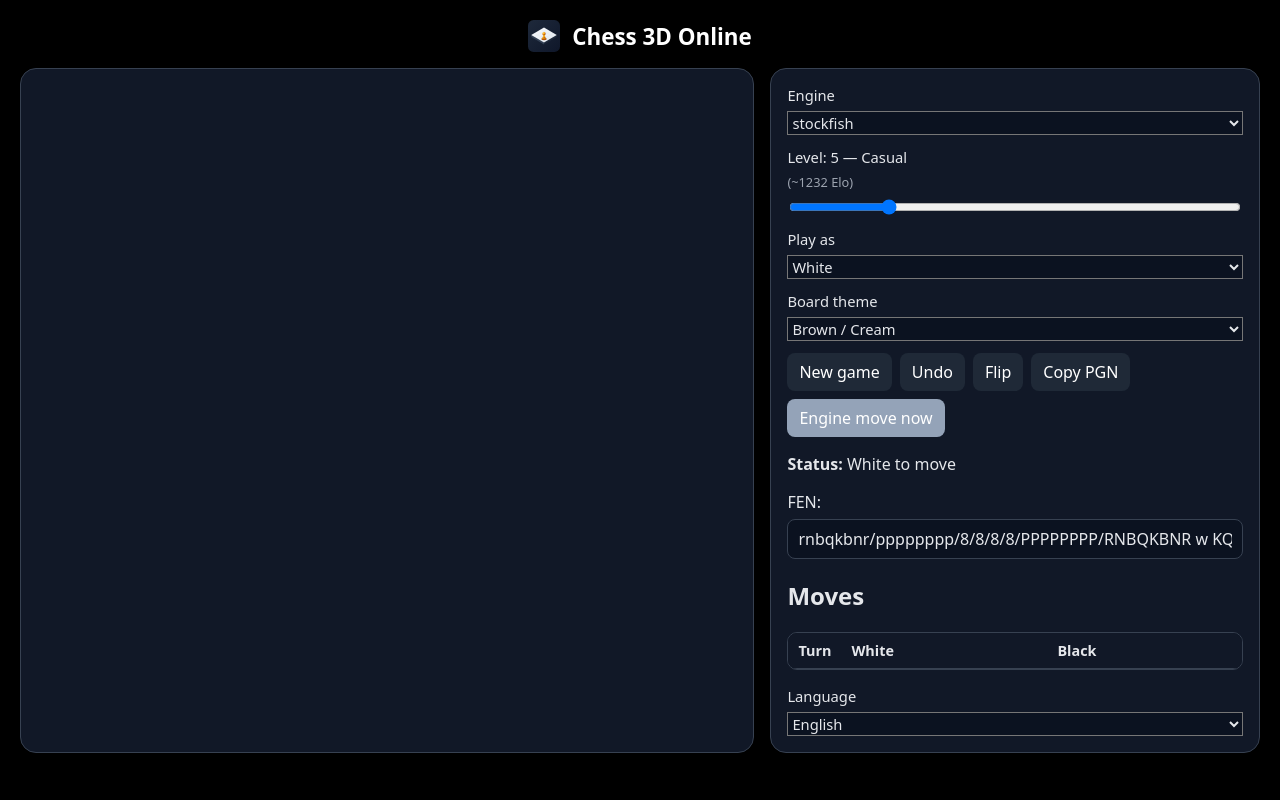
Test: App › undo button removes the last move from the history table
# Set up a position where black is to move so we can drive one engine ply.
Step 1. Replace the text in the field labelled "FEN:" with "rnbqkbnr/pppppppp/8/8/8/8/PPPPPPPP/RNBQKBNR b KQkq - 0 1" → coordinates (1015, 539), box [787,519,1243,559]
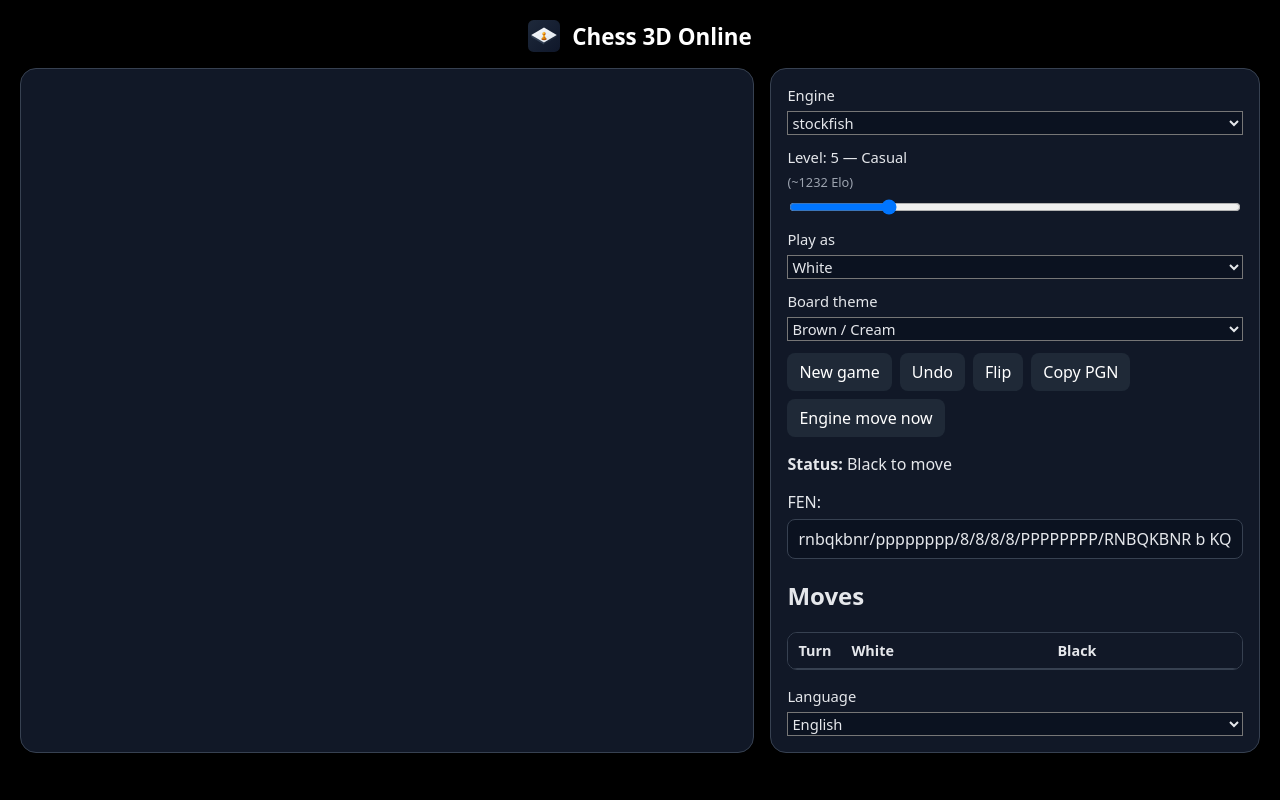
# Click "Engine move now" to get one engine move recorded.
Step 2. Click the button "Engine move now" → coordinates (866, 418), box [787,399,945,437]
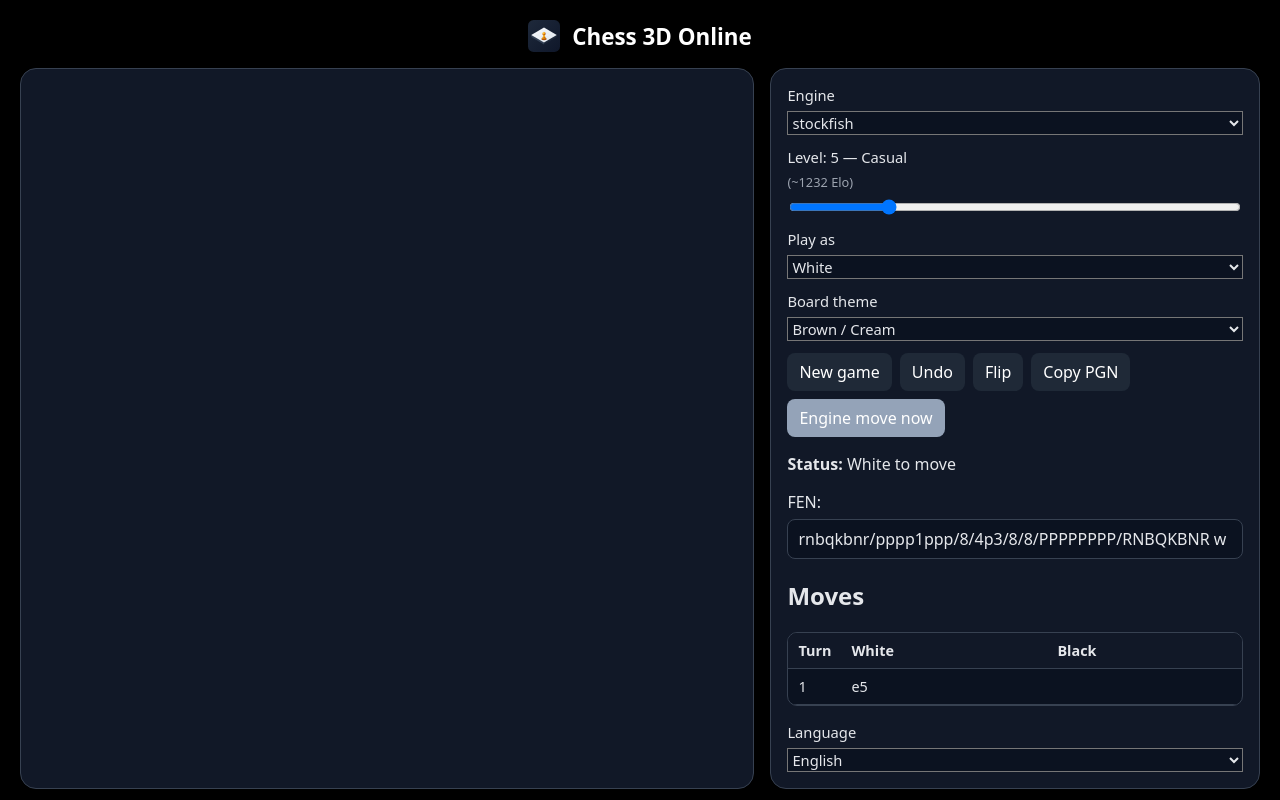
Now the text "e5" is shown, box [842,668,1047,704]
# Click Undo — the move should disappear from the table.
Step 3. Click the button "Undo" → coordinates (932, 372), box [900,353,965,391]
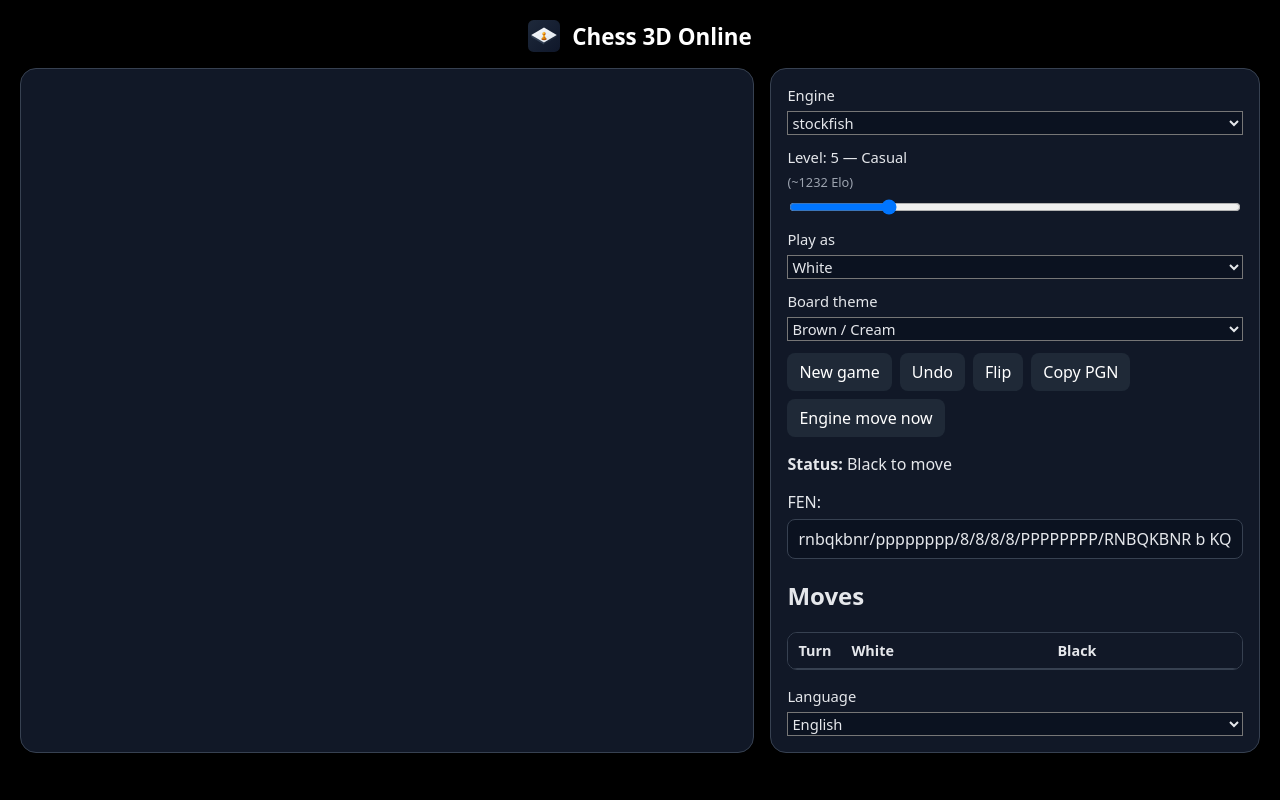
Now the text "e5" is gone
